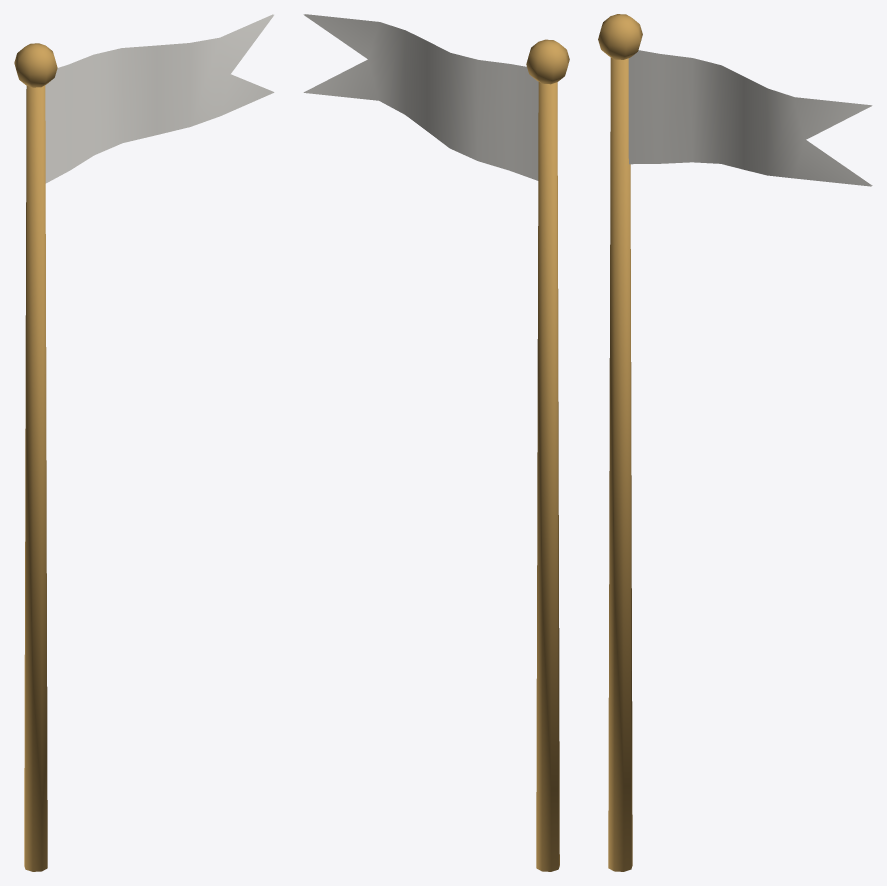
File: knight_pennant.glb
The picture shows the model from 3 angles, left to right: view 1: azimuth 30°, elevation 25°; view 2: azimuth 150°, elevation 25°; view 3: azimuth 330°, elevation 25°; orthographic projection. The views are drawn at different scales.
Parts seen in each view (by area): view 1: PennantCloth, PennantPole; view 2: PennantCloth, PennantPole; view 3: PennantCloth, PennantPole.
Part boxes in pixels (x1,y1,x2,y2): PennantCloth: [45, 14, 274, 183]; PennantPole: [14, 43, 57, 871]; PennantCloth: [303, 14, 538, 180]; PennantPole: [526, 39, 569, 871]; PennantCloth: [628, 50, 872, 186]; PennantPole: [598, 14, 642, 871].
Size of the model in its own units: 0.2008 by 0.606 by 0.03.
